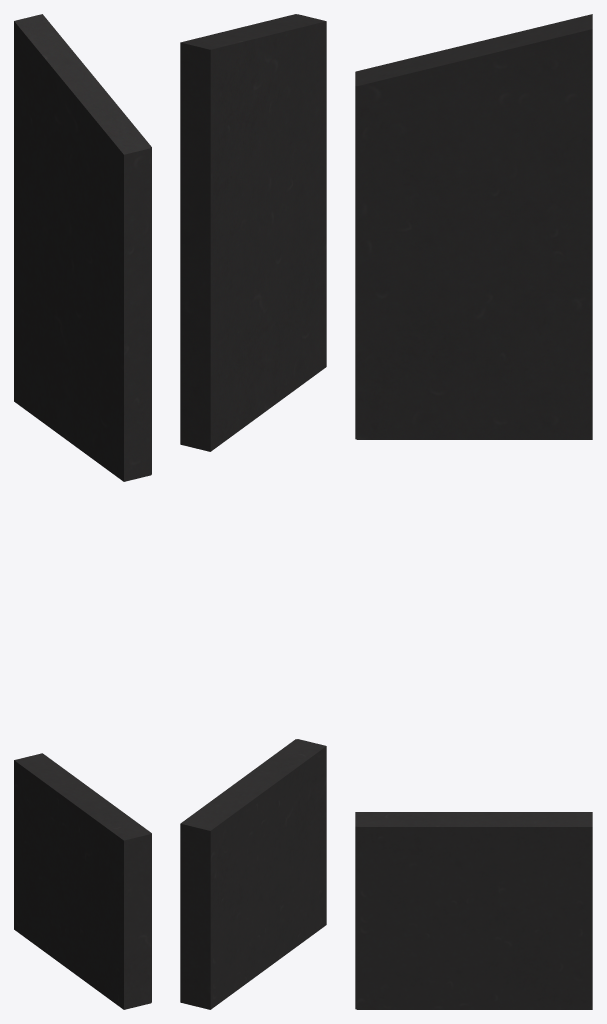
The model's file is A13.1.1 H.WALL. PNL 1910 UP + 850 DWN E3.fbx.
3 views of the same model, side by side, from view 1: azimuth 30°, elevation 25°; view 2: azimuth 150°, elevation 25°; view 3: azimuth 270°, elevation 25° (orthographic). The views are drawn at different scales.
Visible parts, largest first — view 1: Model, Group1; view 2: Model, Group1; view 3: Model, Group1.
Part boxes in pixels (x1,y1,x2,y2): Model: (14, 14, 151, 481); Group1: (14, 753, 151, 1009); Model: (180, 14, 326, 451); Group1: (180, 739, 326, 1009); Model: (355, 14, 592, 439); Group1: (355, 812, 592, 1009).
Bounding box in the file's own units: 150 × 4560 × 1000.
